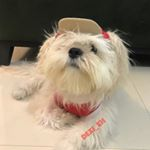puppy: (19, 30, 132, 150)
